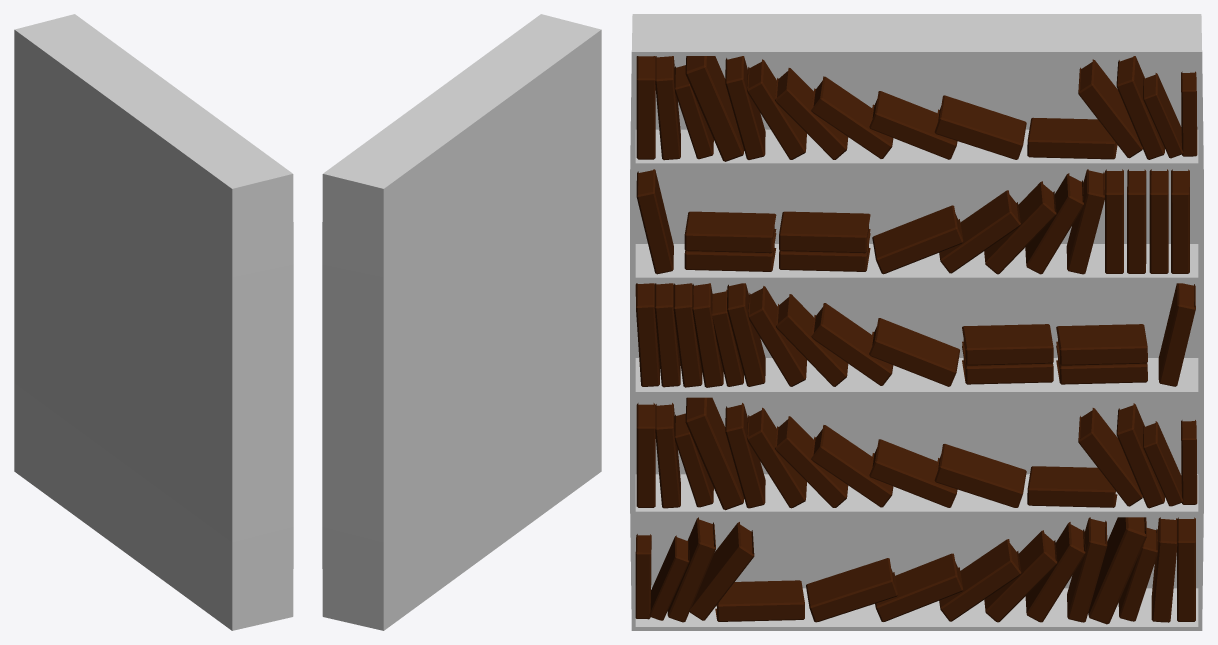
The model's file is shelf.fbx.
3 renders of one model, left to right at view 1: azimuth 30°, elevation 25°; view 2: azimuth 150°, elevation 25°; view 3: azimuth 270°, elevation 25°, orthographic. The views are drawn at different scales.
Parts seen in each view (by area): view 1: Cube.029; view 2: Cube.029; view 3: Cube.029, Cube.028, Cube.056, Cube.057, Cube.022, Cube.072, Cube.087, Cube.027, Cube.018, Cube.052, Cube.063, Cube.073 (+63 smaller).
Boxes of the visible parts, x1,y1,x2,y2 form: Cube.029: [14, 14, 293, 630]; Cube.029: [322, 14, 601, 630]; Cube.029: [630, 14, 1203, 630]; Cube.028: [684, 211, 776, 253]; Cube.056: [962, 324, 1053, 365]; Cube.057: [1056, 324, 1147, 365]; Cube.022: [934, 95, 1026, 159]; Cube.072: [934, 444, 1026, 507]; Cube.087: [806, 558, 897, 622]; Cube.027: [779, 211, 870, 253]; Cube.018: [872, 205, 963, 274]; Cube.052: [869, 318, 959, 386]; Cube.063: [685, 397, 744, 510]; Cube.073: [1027, 466, 1117, 507].
Bounding box in the file's own units: 139 × 972 × 872.
